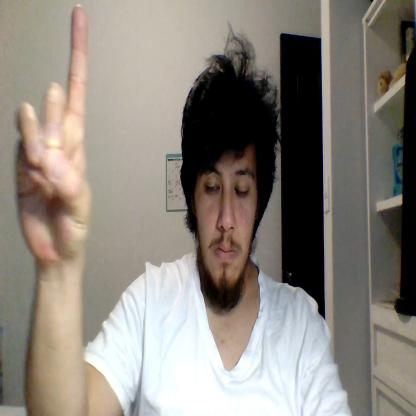D: (13, 3, 92, 264)
